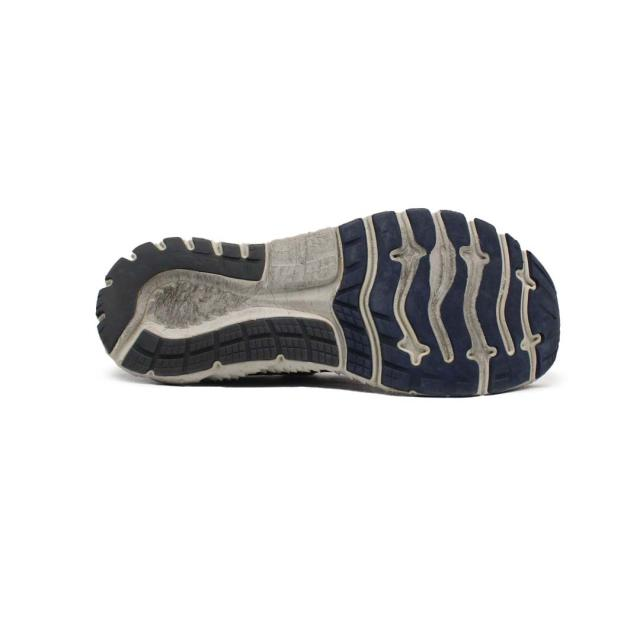outersole: (93, 208, 562, 396)
